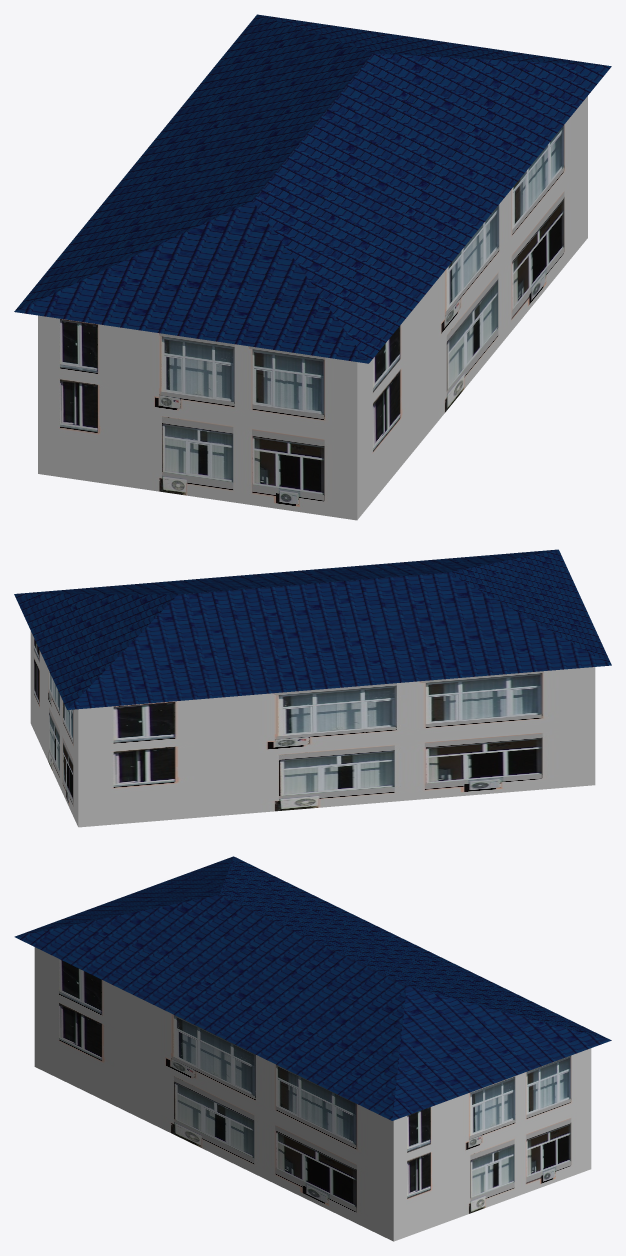
The picture shows the model from 3 angles, top to bottom: view 1: azimuth 30°, elevation 25°; view 2: azimuth 150°, elevation 25°; view 3: azimuth 270°, elevation 25°; orthographic projection. The views are drawn at different scales.
Visible parts, largest first — view 1: CityEngineMaterial_6_m, CityEngineMaterial_9_m; view 2: CityEngineMaterial_9_m, CityEngineMaterial_6_m; view 3: CityEngineMaterial_6_m, CityEngineMaterial_9_m.
Part boxes in pixels (bbox=[...]): CityEngineMaterial_6_m: bbox=[14, 14, 611, 363]; CityEngineMaterial_9_m: bbox=[38, 96, 587, 520]; CityEngineMaterial_9_m: bbox=[30, 631, 595, 827]; CityEngineMaterial_6_m: bbox=[14, 549, 611, 709]; CityEngineMaterial_6_m: bbox=[14, 856, 611, 1120]; CityEngineMaterial_9_m: bbox=[34, 947, 591, 1241].
Size of the model in its own units: 40.07 by 12.51 by 38.25.
